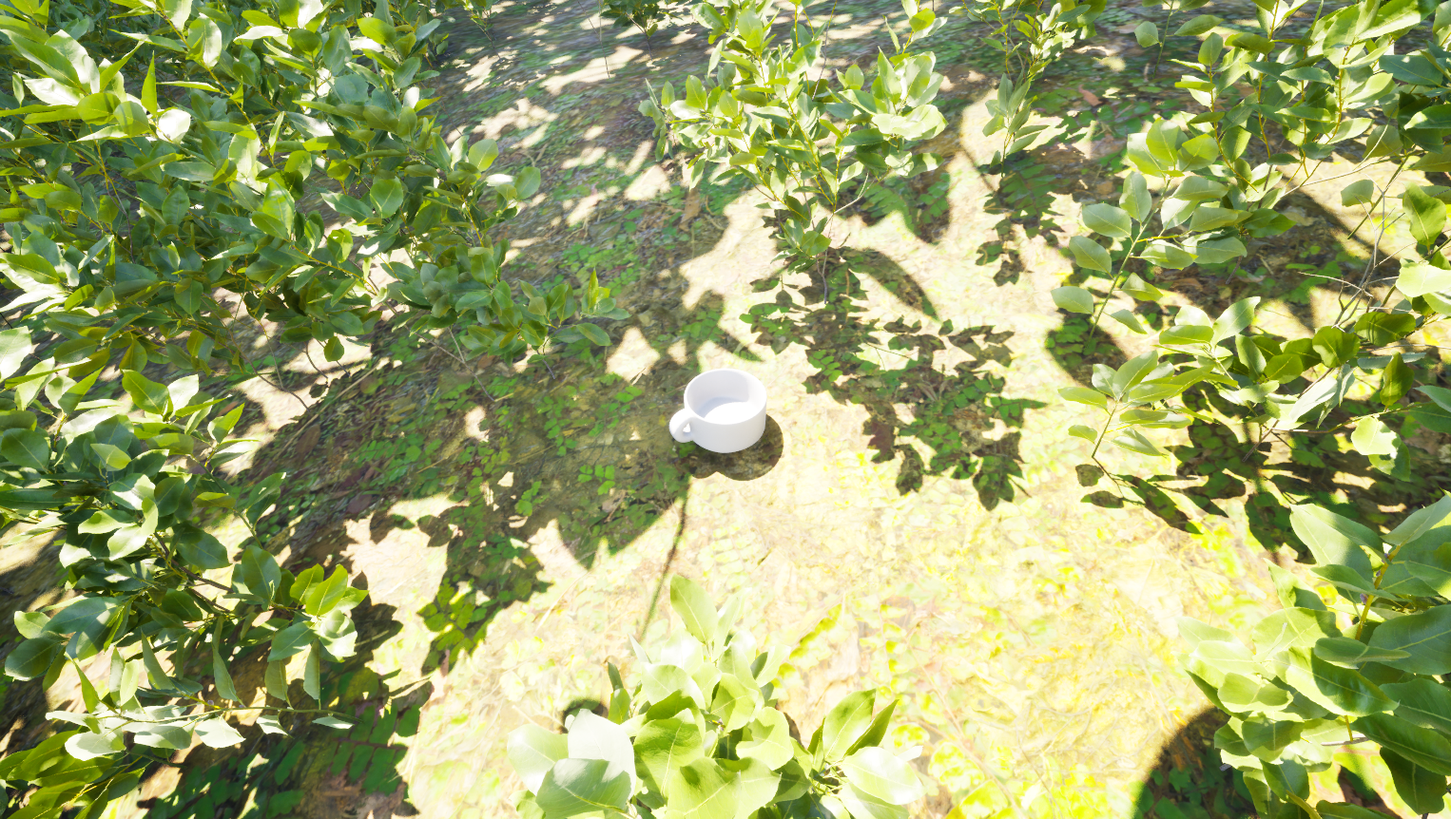Teacup: (666, 366, 767, 455)
